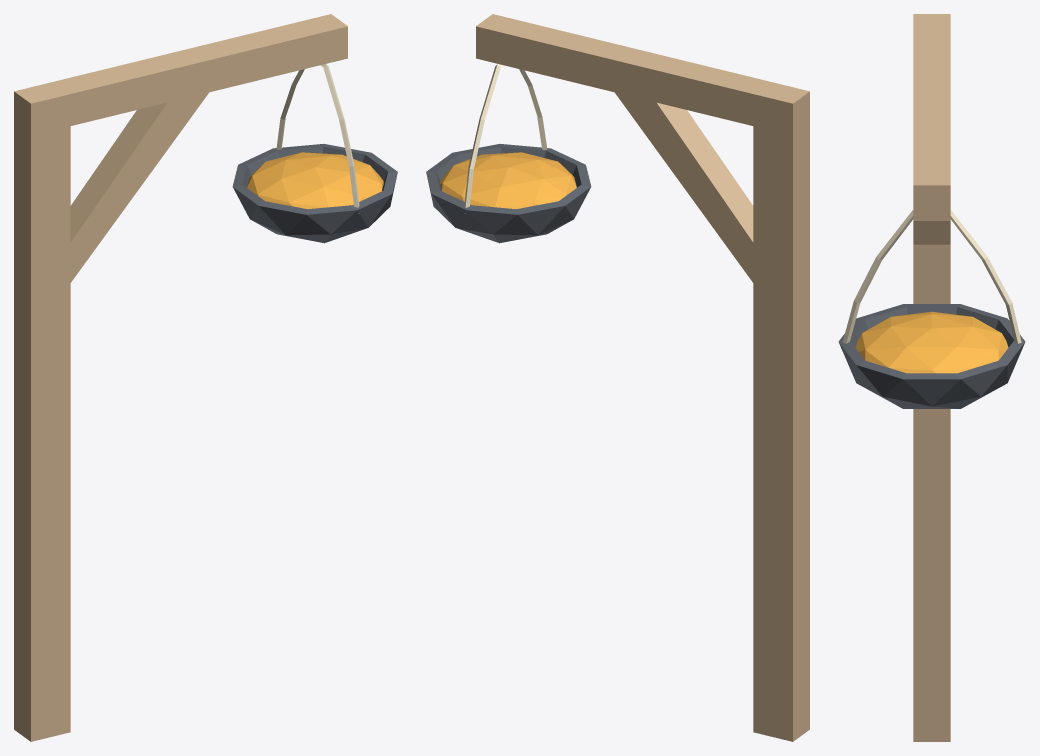
File: Streetlight.fbx
The picture shows the model from 3 angles, left to right: view 1: azimuth 30°, elevation 25°; view 2: azimuth 150°, elevation 25°; view 3: azimuth 270°, elevation 25°; orthographic projection. The views are drawn at different scales.
Visible parts, largest first — view 1: Streetlight; view 2: Streetlight; view 3: Streetlight.
Part boxes in pixels (left/top/right/bottom): Streetlight: left=14, top=14, right=397, bottom=741; Streetlight: left=426, top=14, right=809, bottom=741; Streetlight: left=838, top=14, right=1025, bottom=741.
Size of the model in its own units: 401 by 675 by 162.
